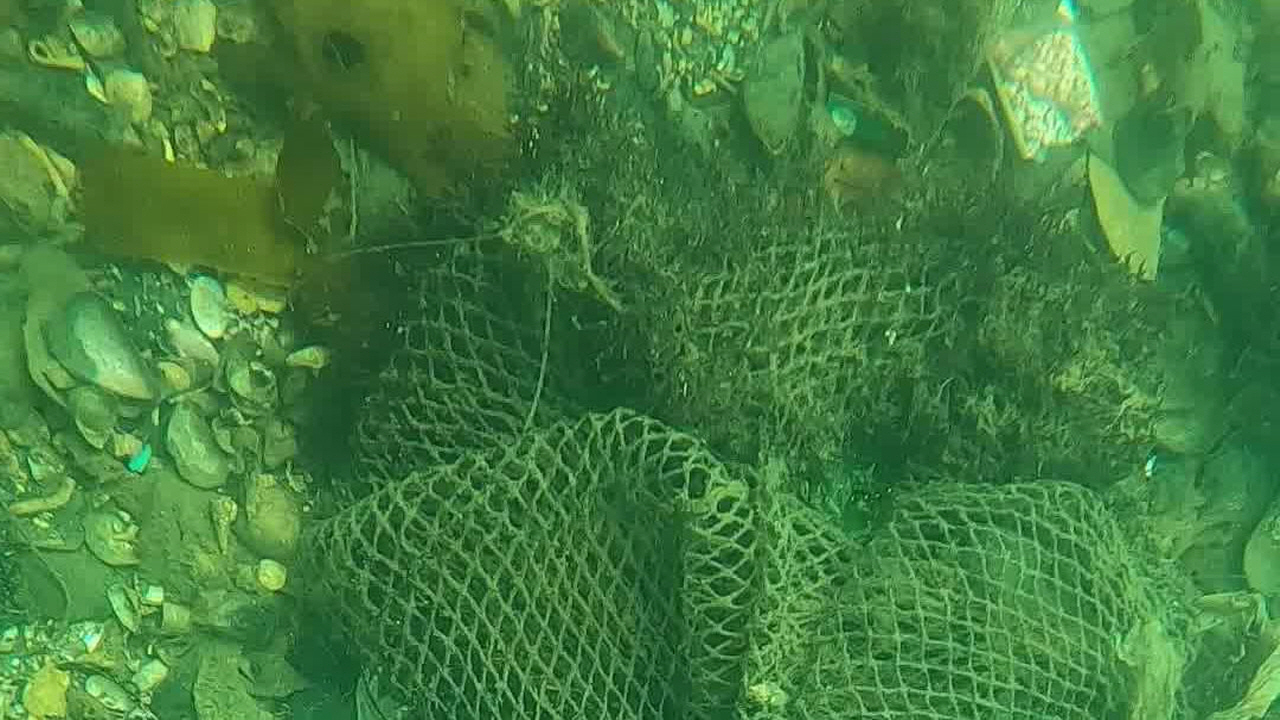fish net: (305, 193, 1195, 720)
